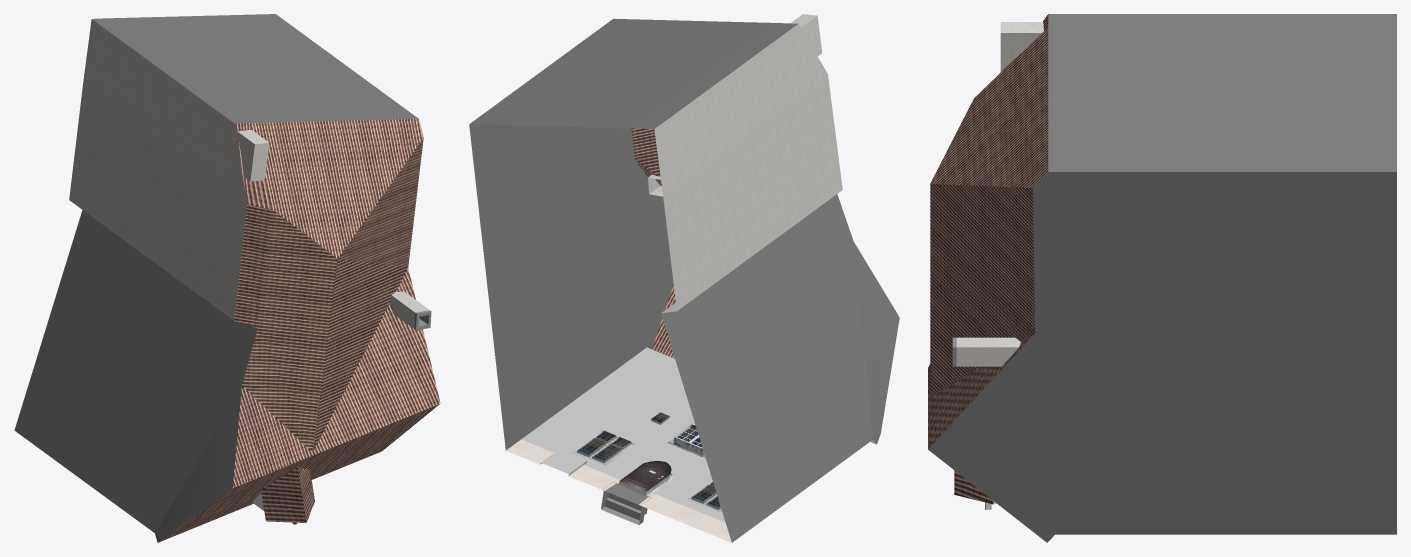
Rendered from Tolli_6.obj.
3 renders of one model, left to right at view 1: azimuth 30°, elevation 25°; view 2: azimuth 150°, elevation 25°; view 3: azimuth 270°, elevation 25°, orthographic. The views are drawn at different scales.
Visible parts, largest first — view 1: Tolli_6; view 2: Tolli_6; view 3: Tolli_6.
Part boxes in pixels (left/top/right/bottom): Tolli_6: left=14, top=14, right=440, bottom=542; Tolli_6: left=469, top=14, right=899, bottom=542; Tolli_6: left=928, top=14, right=1396, bottom=542.
Size of the model in its own units: 12.53 by 18.28 by 15.96.
